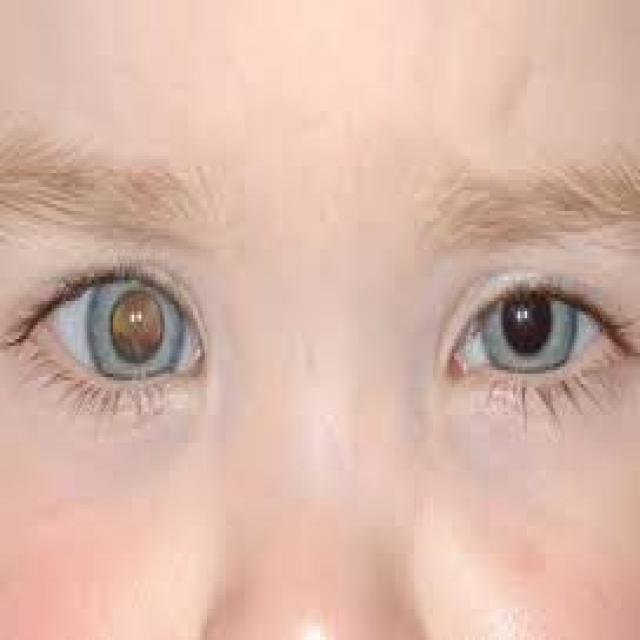reflexo-alterado: (64, 258, 199, 398)
reflexo-normal: (470, 272, 576, 410)
